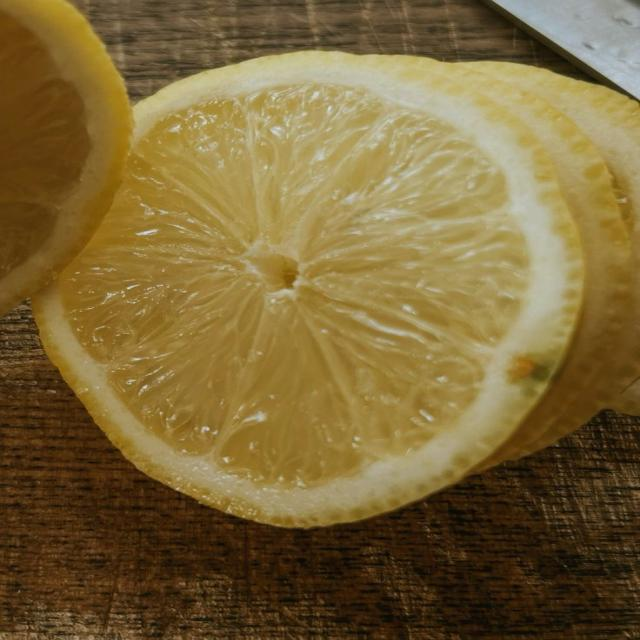lemon: (34, 52, 582, 526), (459, 63, 633, 466), (468, 62, 639, 412), (0, 0, 131, 315)
